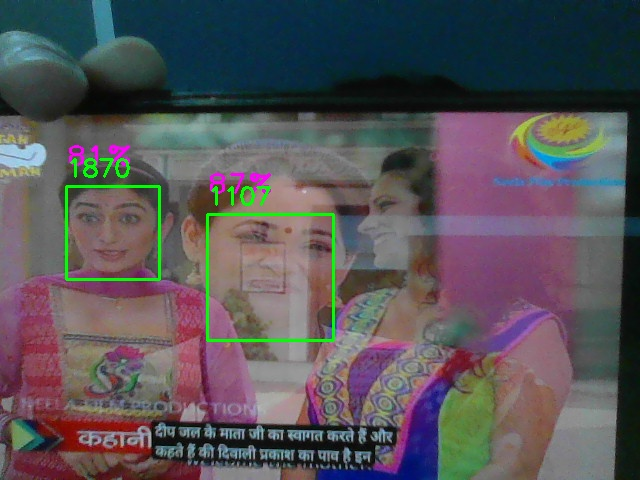fake: (207, 214, 334, 341), (66, 186, 160, 280)
